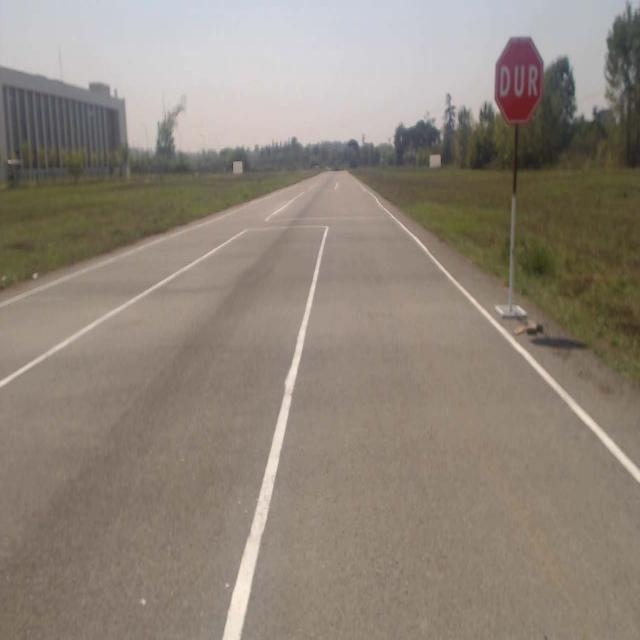dur: (495, 38, 543, 123)
